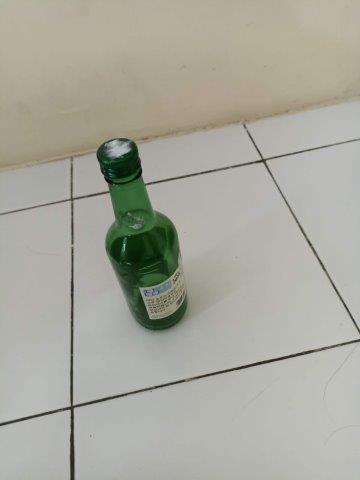botolkaca: (97, 136, 189, 331)
